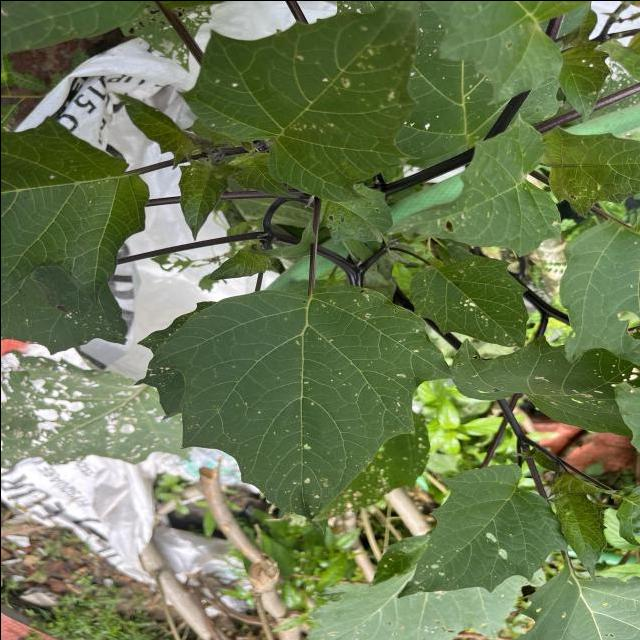Datura metal linn: (144, 282, 458, 538), (172, 1, 423, 206), (378, 110, 564, 260), (394, 460, 572, 600), (405, 251, 531, 351), (541, 488, 614, 582)
